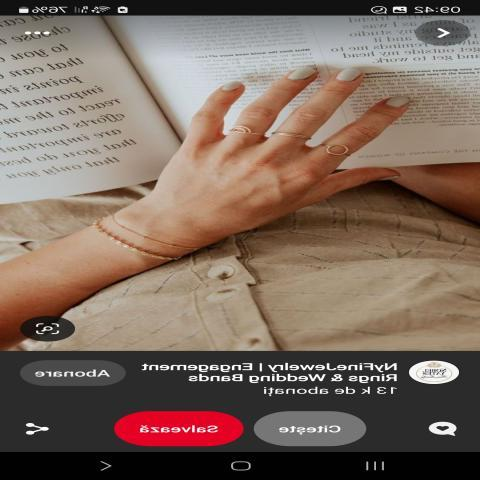Hands: (104, 43, 436, 283)
